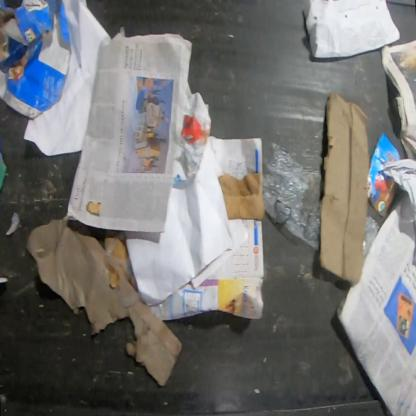cardboard: (319, 90, 370, 287), (0, 0, 74, 121), (368, 131, 402, 220), (217, 172, 265, 221), (0, 151, 7, 192)
soft_plastic: (261, 140, 324, 253), (362, 214, 381, 258)
